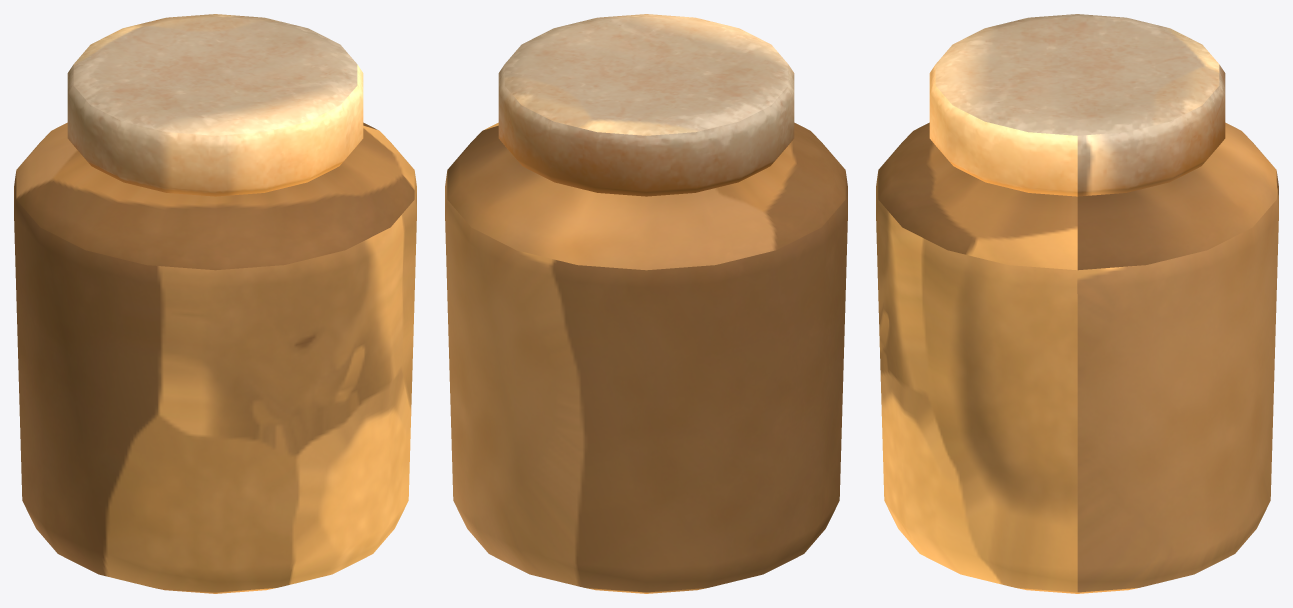
The model's file is SM_Pot3.fbx.
3 renders of one model, left to right at view 1: azimuth 30°, elevation 25°; view 2: azimuth 150°, elevation 25°; view 3: azimuth 270°, elevation 25°, orthographic.
Visible parts, largest first — view 1: SM_Pot3_LOD0; view 2: SM_Pot3_LOD0; view 3: SM_Pot3_LOD0.
Boxes of the visible parts, x1,y1,x2,y2 form: SM_Pot3_LOD0: (14,14,416,593); SM_Pot3_LOD0: (445,14,847,593); SM_Pot3_LOD0: (876,14,1278,593).
Size of the model in its own units: 15.96 by 15.71 by 20.09.
